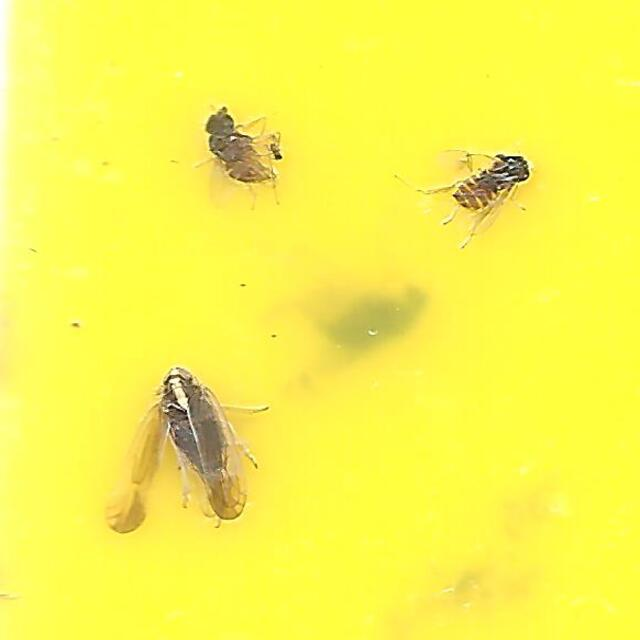Brachycera: (417, 146, 530, 240), (200, 106, 284, 209)
Hemiptera: (110, 365, 264, 534)
